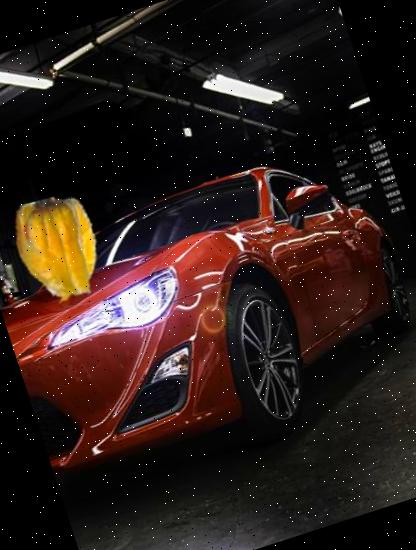Physalis: (0, 183, 126, 319)
